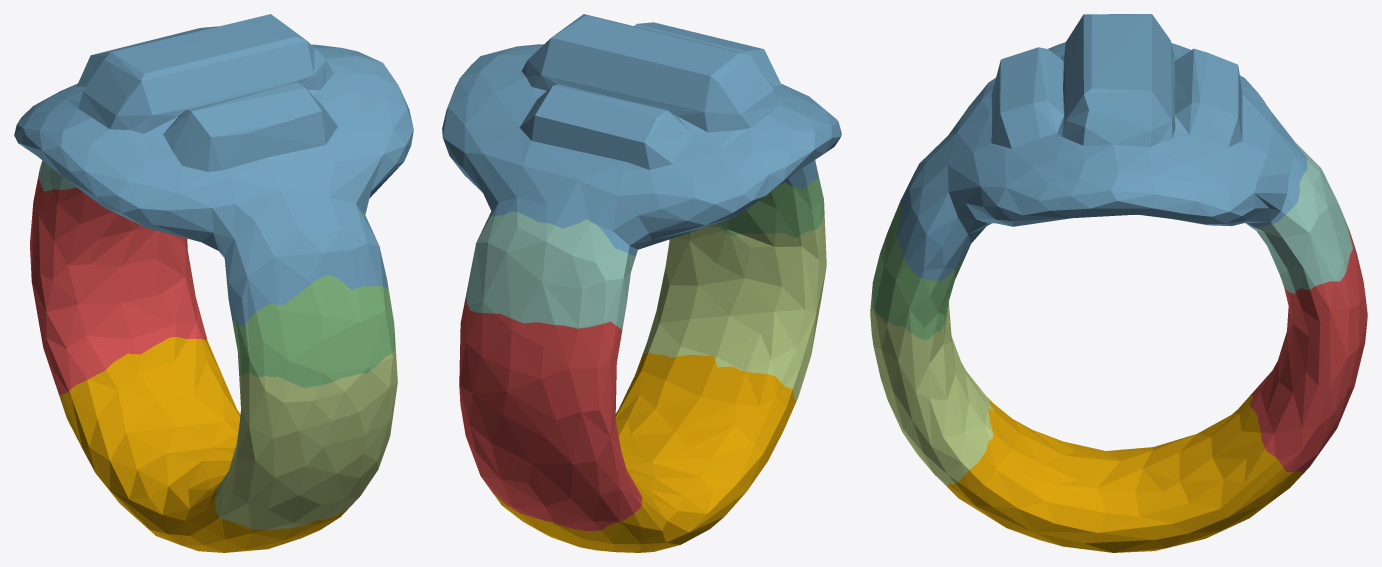
The model's file is fractured_78_6pcs.glb.
3 renders of one model, left to right at view 1: azimuth 30°, elevation 25°; view 2: azimuth 150°, elevation 25°; view 3: azimuth 270°, elevation 25°, orthographic.
Parts seen in each view (by area): view 1: piece_2.obj, piece_0.obj, piece_1.obj, piece_5.obj, piece_3.obj, piece_4.obj; view 2: piece_2.obj, piece_1.obj, piece_0.obj, piece_5.obj, piece_4.obj, piece_3.obj; view 3: piece_2.obj, piece_0.obj, piece_1.obj, piece_5.obj, piece_4.obj, piece_3.obj.
Part boxes in pixels (x1,y1,x2,y2): piece_2.obj: [14, 14, 413, 326]; piece_0.obj: [59, 337, 348, 552]; piece_1.obj: [30, 169, 206, 394]; piece_5.obj: [214, 344, 397, 530]; piece_3.obj: [232, 275, 395, 387]; piece_4.obj: [39, 160, 76, 191]; piece_2.obj: [442, 14, 841, 256]; piece_1.obj: [459, 297, 642, 530]; piece_0.obj: [492, 352, 796, 552]; piece_5.obj: [643, 213, 826, 400]; piece_4.obj: [465, 211, 635, 329]; piece_3.obj: [708, 173, 824, 237]; piece_2.obj: [896, 14, 1307, 280]; piece_0.obj: [947, 395, 1302, 552]; piece_1.obj: [1250, 229, 1367, 474]; piece_5.obj: [870, 297, 994, 486]; piece_4.obj: [1253, 141, 1352, 293]; piece_3.obj: [871, 203, 963, 339].
Size of the model in its own units: 0.7357 by 1 by 0.9353.
